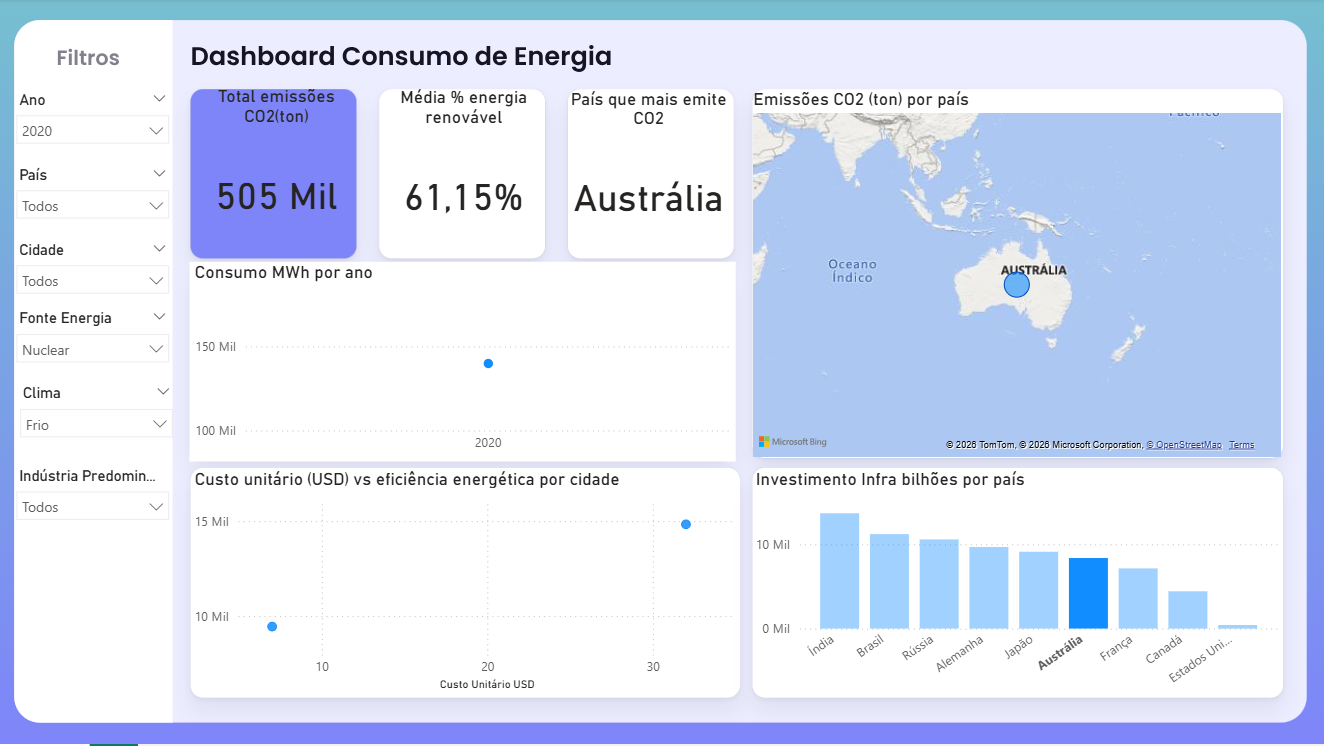

The dashboard page shown, as its layout file describes it:
{"tool":"powerbi","page":{"name":"Dash Energia","canvas":[1280,720],"ordinal":0},"visuals":[{"type":"card","title":"Total emissões CO2(ton)","fields":{"Values":["Sum(Base Energia.Emissoes CO2 Ton)"]},"box":[185.8,84.5,167.7,167.7],"z":0},{"type":"card","title":"Média % energia renovável","fields":{"Values":["Avg(Base Energia.Perc Energia Renovavel)"]},"box":[366.8,85.7,167.7,167.7],"z":1000},{"type":"card","title":"País que mais emite CO2","fields":{"Values":["Min(Base Energia.País)"]},"box":[545.3,86.9,167.7,167.7],"z":2000},{"type":"map","title":" Emissões CO2 (ton) por país","fields":{"Category":["Base Energia.País"],"Size":["Sum(Base Energia.Emissoes CO2 Ton)"]},"box":[725.1,86.9,518.8,360.7],"z":3000},{"type":"areaChart","title":" Consumo MWh por ano","fields":{"Category":["Base Energia.Ano"],"Y":["Sum(Base Energia.Consumo MWh)"]},"box":[185.8,254.6,527.2,193],"z":3001},{"type":"scatterChart","title":"Custo unitário (USD) vs eficiência energética por cidade","fields":{"X":["Sum(Base Energia.Custo Unitário USD)"],"Y":["Sum(Base Energia.Eficiência Energetica)"],"Category":["Base Energia.Cidade"]},"box":[185.8,453.6,539.3,219.6],"z":3002},{"type":"clusteredColumnChart","title":" Investimento Infra bilhões por país","fields":{"Category":["Base Energia.País"],"Y":["Sum(Base Energia.Investimento Infra Bilhoes)"]},"box":[727.5,453.6,513.9,223.2],"z":3003},{"type":"slicer","fields":{"Values":["Base Energia.Ano"]},"box":[8.4,84.5,167.7,72.4],"z":3004},{"type":"slicer","fields":{"Values":["Base Energia.País"]},"box":[8.4,156.8,167.7,72.4],"z":3005},{"type":"slicer","fields":{"Values":["Base Energia.Cidade"]},"box":[8.4,229.2,167.7,84.5],"z":3006},{"type":"slicer","fields":{"Values":["Base Energia.Fonte Energia"]},"box":[8.4,295.6,167.7,72.4],"z":3007},{"type":"slicer","fields":{"Values":["Base Energia.Clima"]},"box":[12.1,368,167.7,72.4],"z":3008},{"type":"slicer","fields":{"Values":["Base Energia.Indústria Predominante"]},"box":[8.4,447.6,167.7,72.4],"z":3009}]}

Visuals, with their boxes in screenshot pixels (x1, y1, x2, y2), scaled from the page's 1280x720 canvas onto the 1324x746 screenshot:
"Total emissões CO2(ton)" card: box(192, 88, 366, 261)
"Média % energia renovável" card: box(379, 89, 553, 263)
"País que mais emite CO2" card: box(564, 90, 738, 264)
" Emissões CO2 (ton) por país" map: box(750, 90, 1287, 464)
" Consumo MWh por ano" areaChart: box(192, 264, 738, 464)
"Custo unitário (USD) vs eficiência energética por cidade" scatterChart: box(192, 470, 750, 698)
" Investimento Infra bilhões por país" clusteredColumnChart: box(753, 470, 1284, 701)
slicer - Base Energia.Ano: box(9, 88, 182, 163)
slicer - Base Energia.País: box(9, 162, 182, 237)
slicer - Base Energia.Cidade: box(9, 237, 182, 325)
slicer - Base Energia.Fonte Energia: box(9, 306, 182, 381)
slicer - Base Energia.Clima: box(13, 381, 186, 456)
slicer - Base Energia.Indústria Predominante: box(9, 464, 182, 539)
